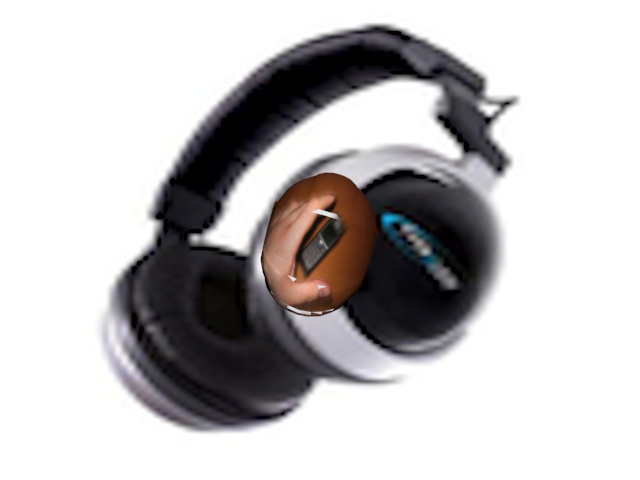bike_helmet: (256, 161, 384, 321)
